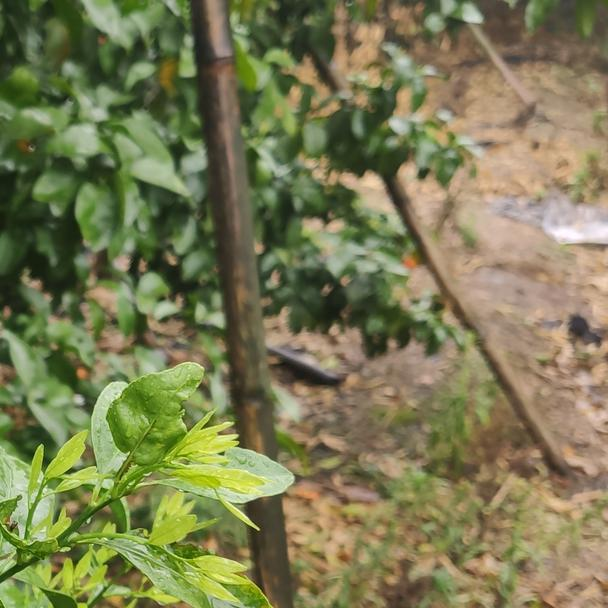shoot: (103, 511, 252, 604), (160, 412, 265, 509), (17, 432, 104, 538)
